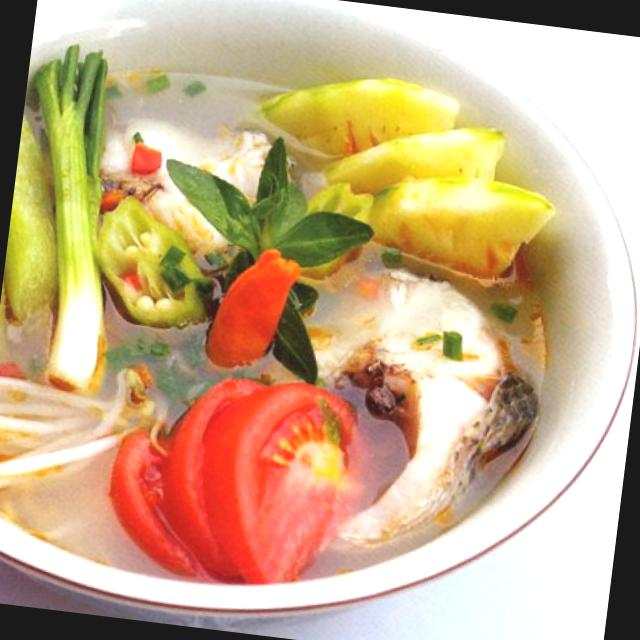canh chua: (0, 46, 553, 583)
